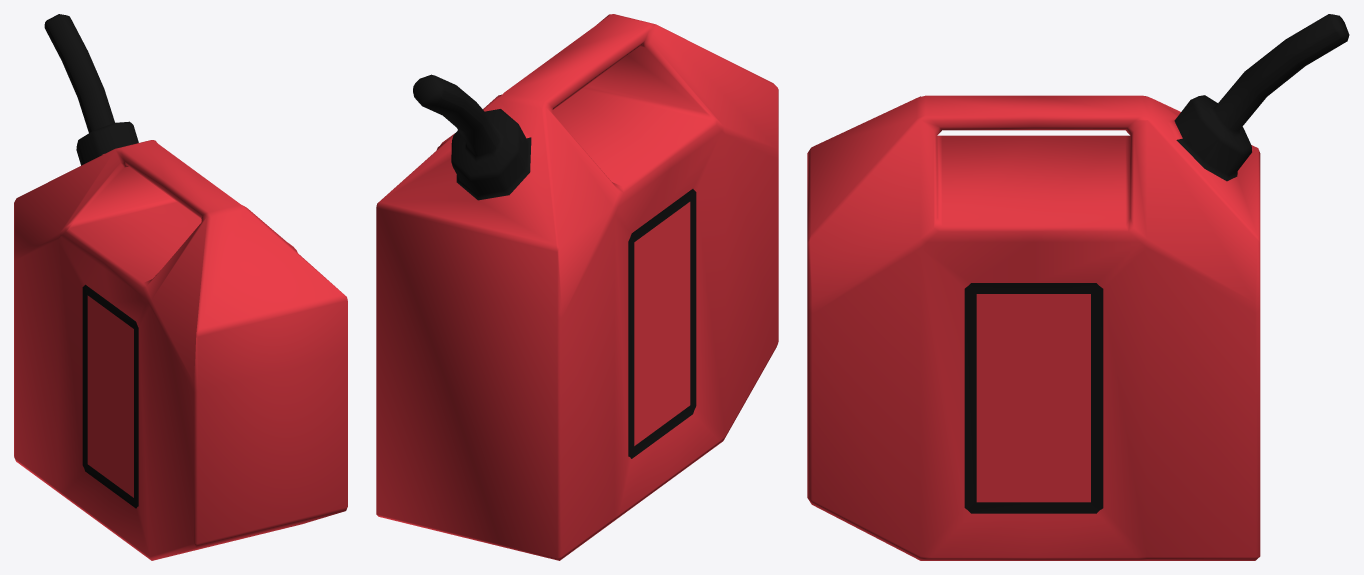
The model's file is gasCan.fbx.
The picture shows the model from 3 angles, left to right: view 1: azimuth 30°, elevation 25°; view 2: azimuth 150°, elevation 25°; view 3: azimuth 270°, elevation 25°; orthographic projection. The views are drawn at different scales.
Parts seen in each view (by area): view 1: Cube; view 2: Cube; view 3: Cube.
Boxes of the visible parts, left/top/right/bottom form: Cube: left=14, top=14, right=347, bottom=560; Cube: left=376, top=14, right=778, bottom=560; Cube: left=807, top=14, right=1349, bottom=560.
Bounding box in the file's own units: 96.55 × 244 × 239.
